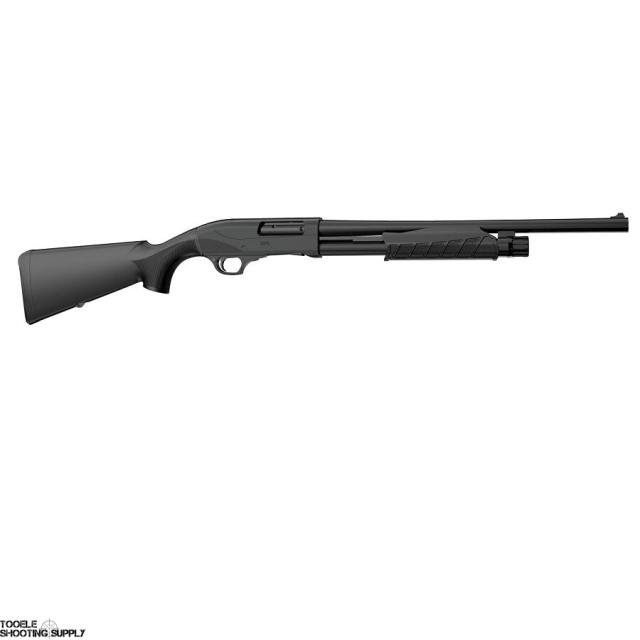ShotGun: (17, 215, 631, 326)
